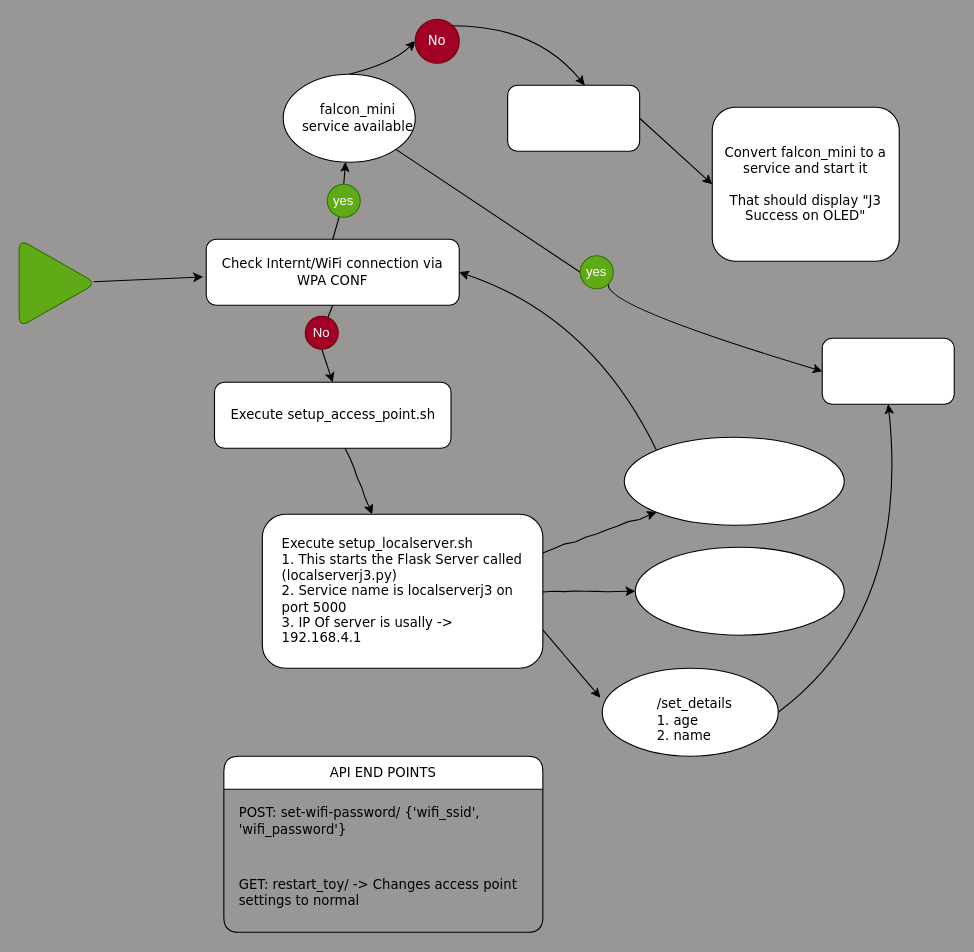
Image size: 974x952. Some labels were removed from this diagram. The centre of each missing label's shape, as x and y in pixels:
/restart: the point at 733,480
/set_wifi_password 1. wifi_ssif 2. wifi_password: the point at 739,590
Boot: the point at 57,282
Execute LL-MAI-PAI-Software installation script: the point at 573,117
Start falcon_mini service once again with daemon reload: the point at 887,370
